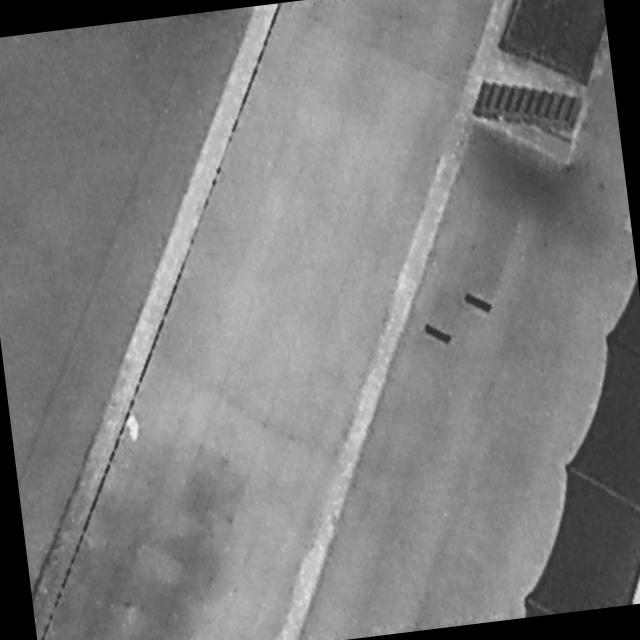person: (123, 412, 142, 444)
